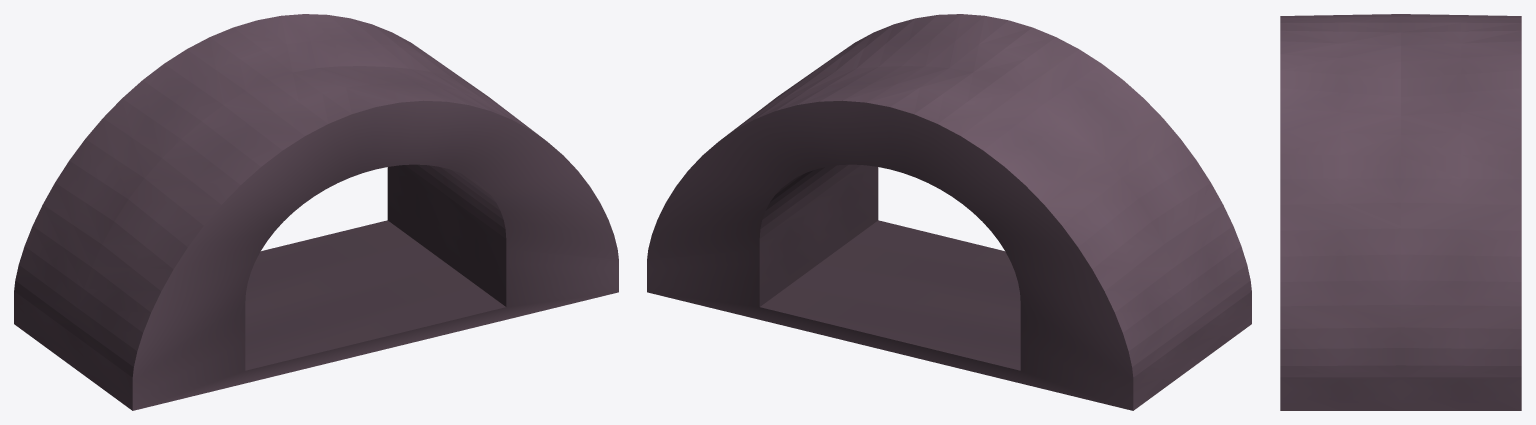
File: straight_12m_terrain_lod1.glb
3 renders of one model, left to right at view 1: azimuth 30°, elevation 25°; view 2: azimuth 150°, elevation 25°; view 3: azimuth 270°, elevation 25°, orthographic.
Parts seen in each view (by area): view 1: TerrainRoof.005; view 2: TerrainRoof.005; view 3: TerrainRoof.005.
Part boxes in pixels (x1=…): TerrainRoof.005: x1=14, y1=14, x2=618, y2=410; TerrainRoof.005: x1=647, y1=14, x2=1251, y2=410; TerrainRoof.005: x1=1280, y1=14, x2=1521, y2=410.
Size of the model in its own units: 28.4 by 13.65 by 12.
